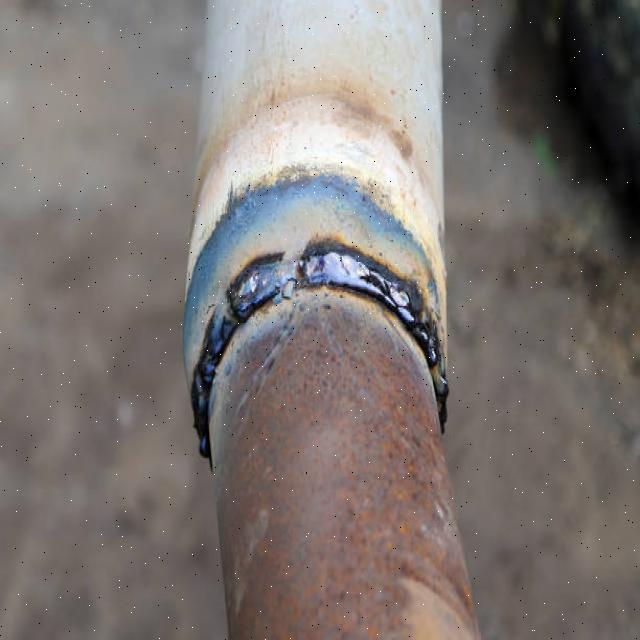Bad Welding: (184, 242, 460, 479)
